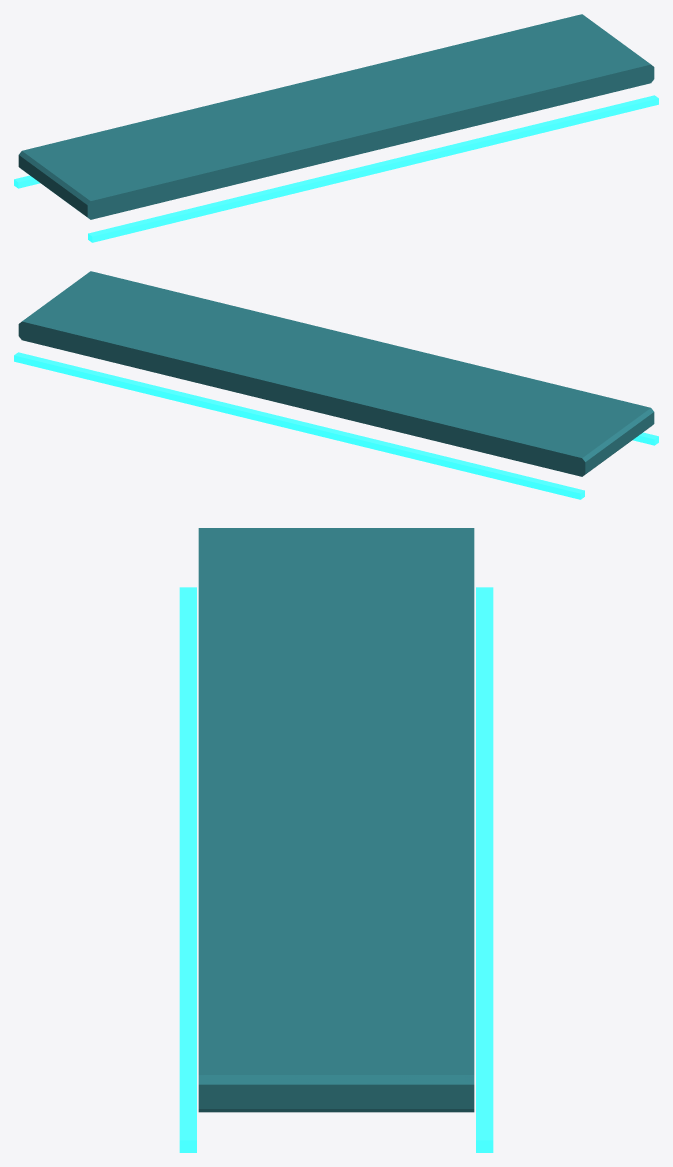
The model's file is Frontier_MiningConveyor_Belt.glb.
3 views of the same model, one above another, from view 1: azimuth 30°, elevation 25°; view 2: azimuth 150°, elevation 25°; view 3: azimuth 270°, elevation 25° (orthographic). The views are drawn at different scales.
Parts seen in each view (by area): view 1: Frontier_MiningConveyor_Belt; view 2: Frontier_MiningConveyor_Belt; view 3: Frontier_MiningConveyor_Belt.
Part boxes in pixels (box(x1,y1,x2,y2)): Frontier_MiningConveyor_Belt: box(14, 14, 658, 242); Frontier_MiningConveyor_Belt: box(14, 271, 658, 499); Frontier_MiningConveyor_Belt: box(179, 528, 493, 1152).
Bounding box in the file's own units: 3.8 × 0.24 × 0.91.
